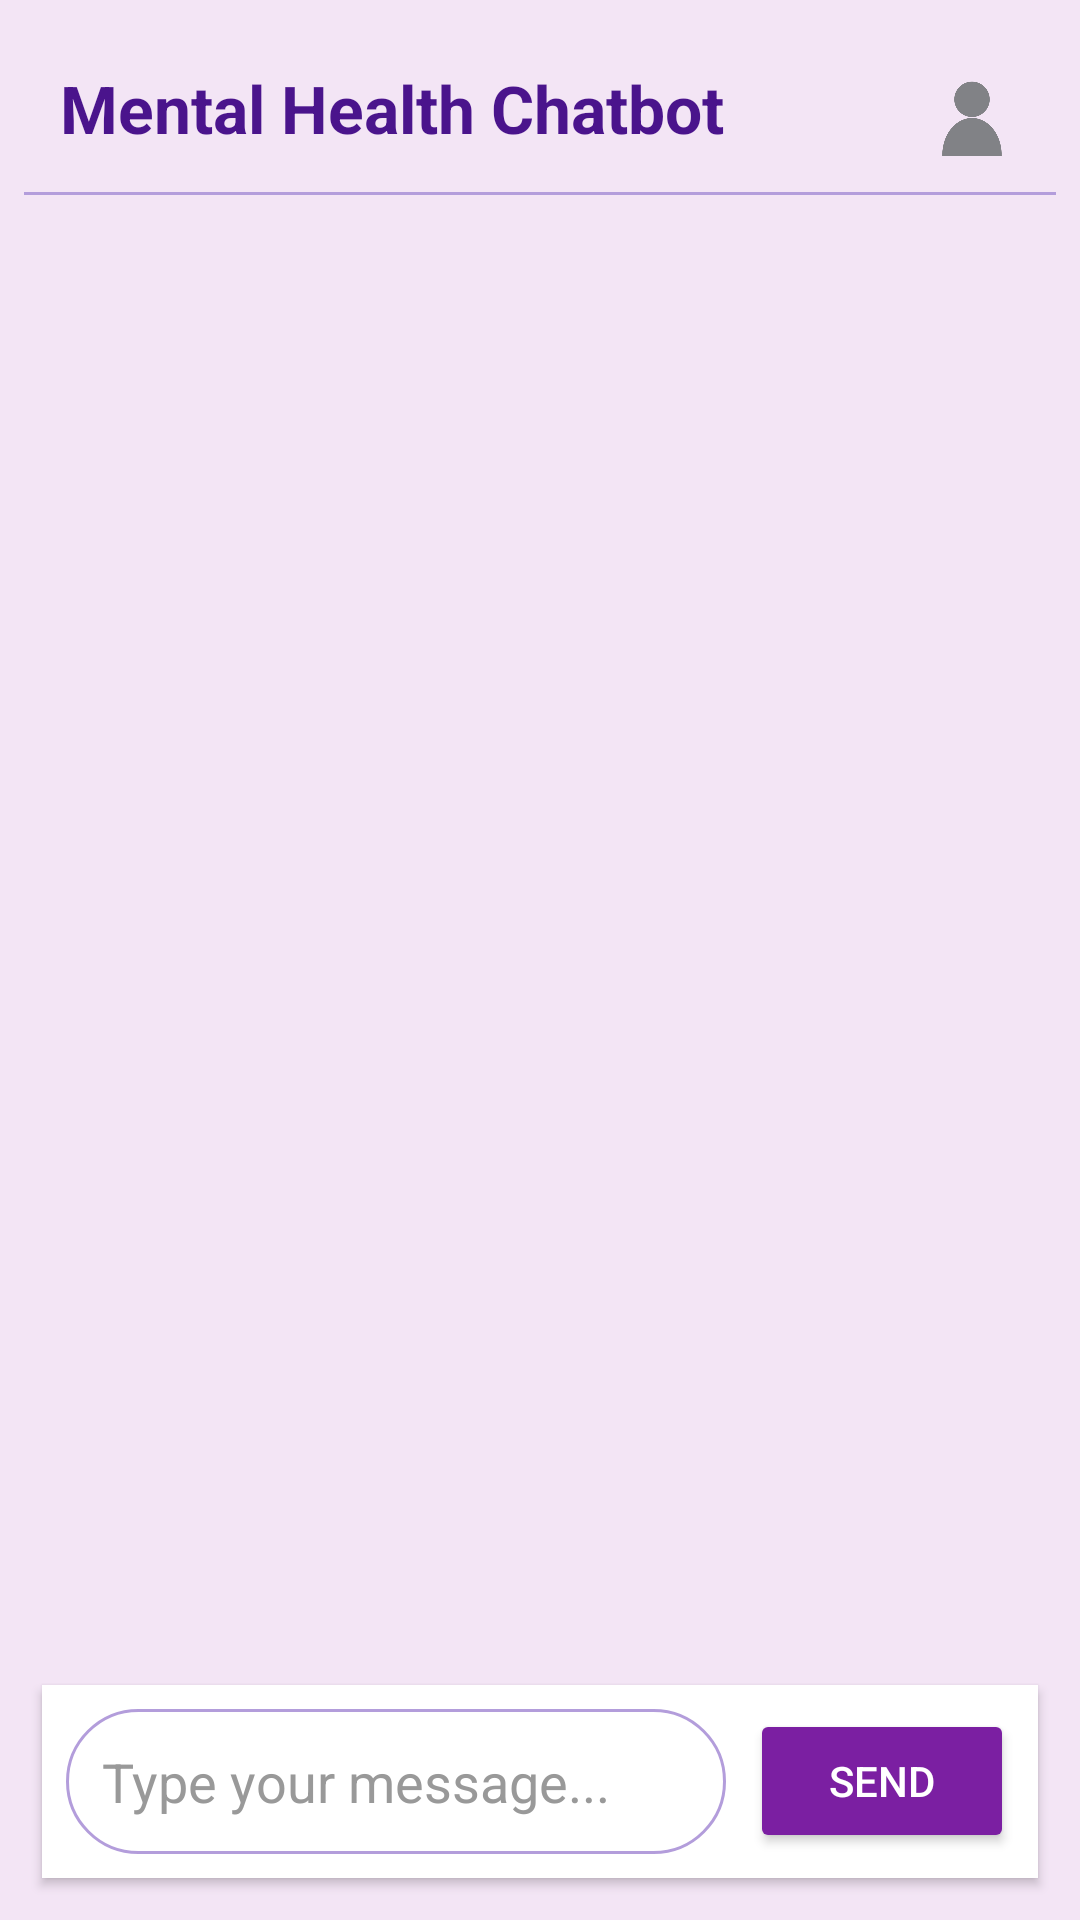

Icon bounding boxes for this 1080px x 1920px phone screenshot, format [x1, y1, x2, y2]:
Profile: [942, 81, 1002, 156]
